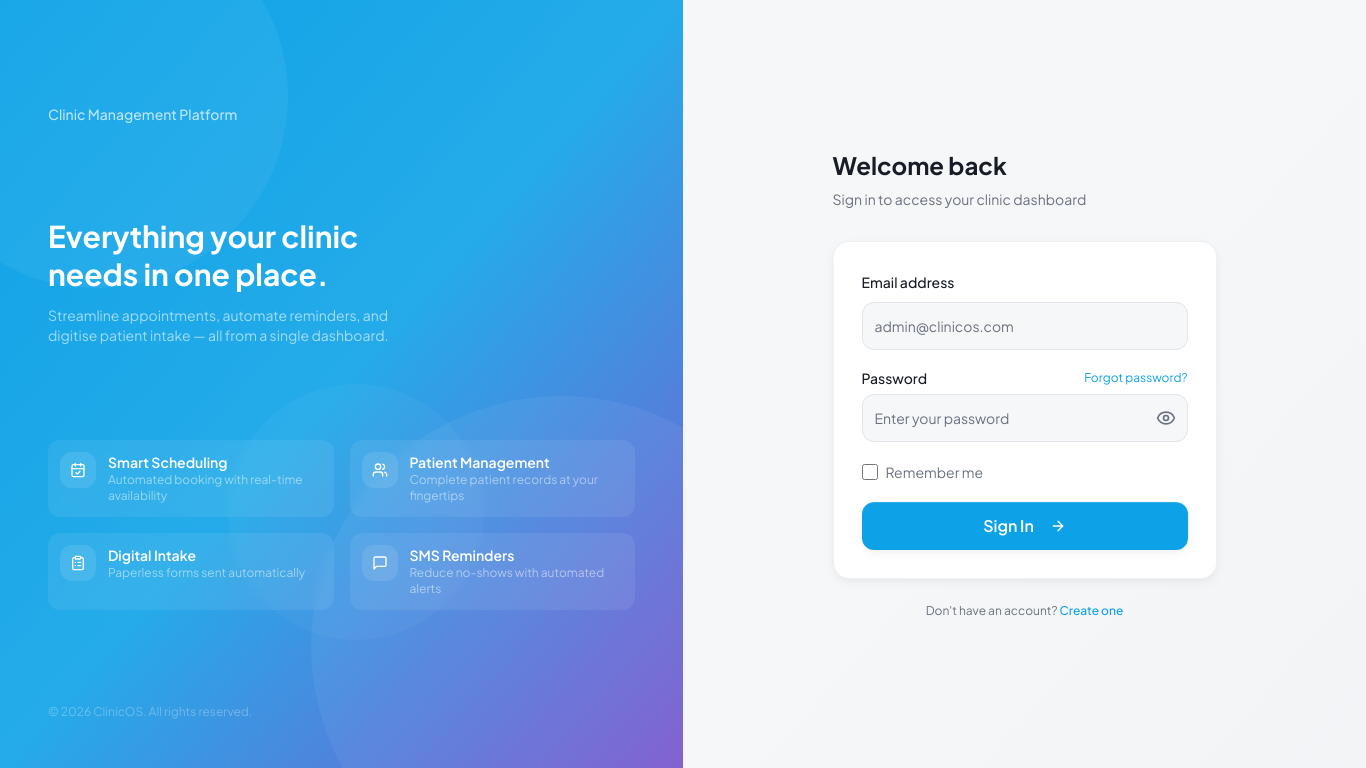
Test: Login › flags invalid email format
Type "not-an-email" into the field labelled "Email address" at x=1024, y=326, box [862,302,1188,350]
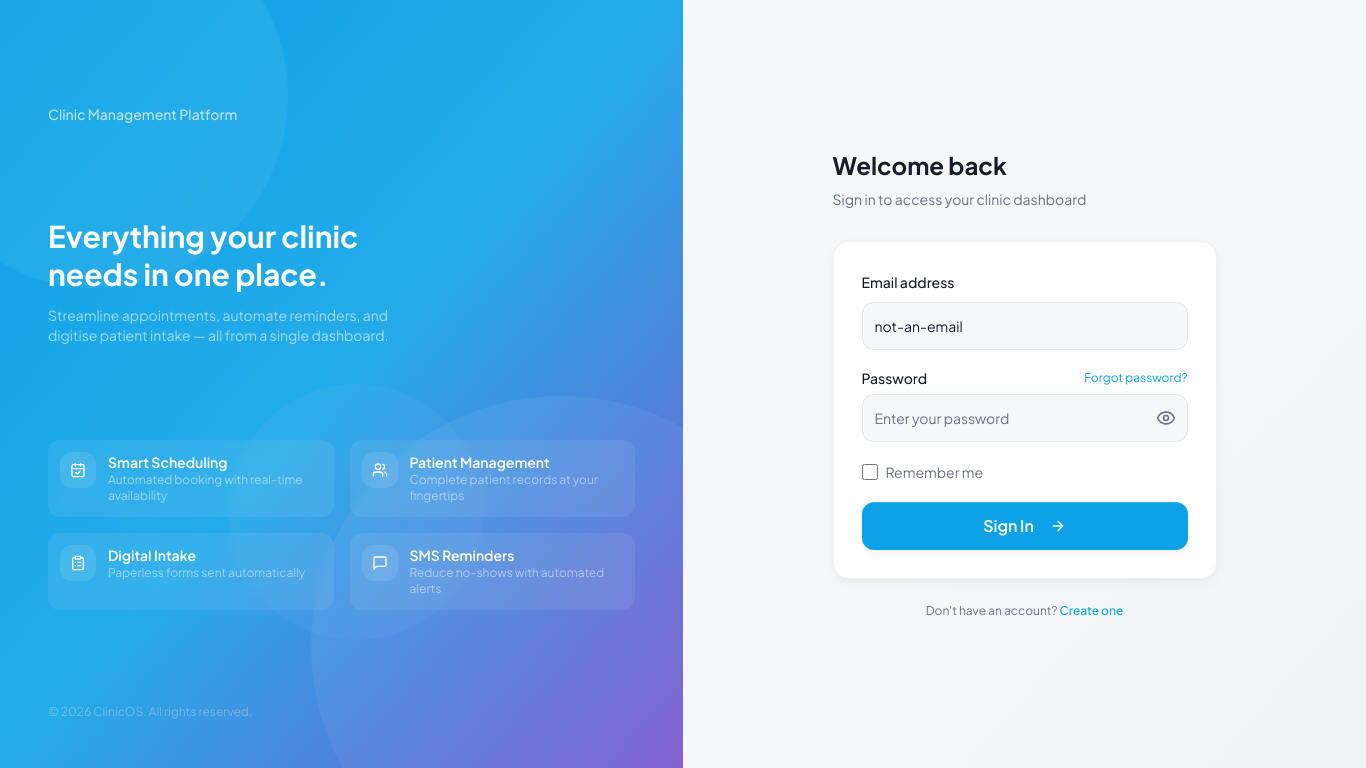
Type "somepass" into the password field labelled "Password" at x=1024, y=418, box [862,394,1188,442]
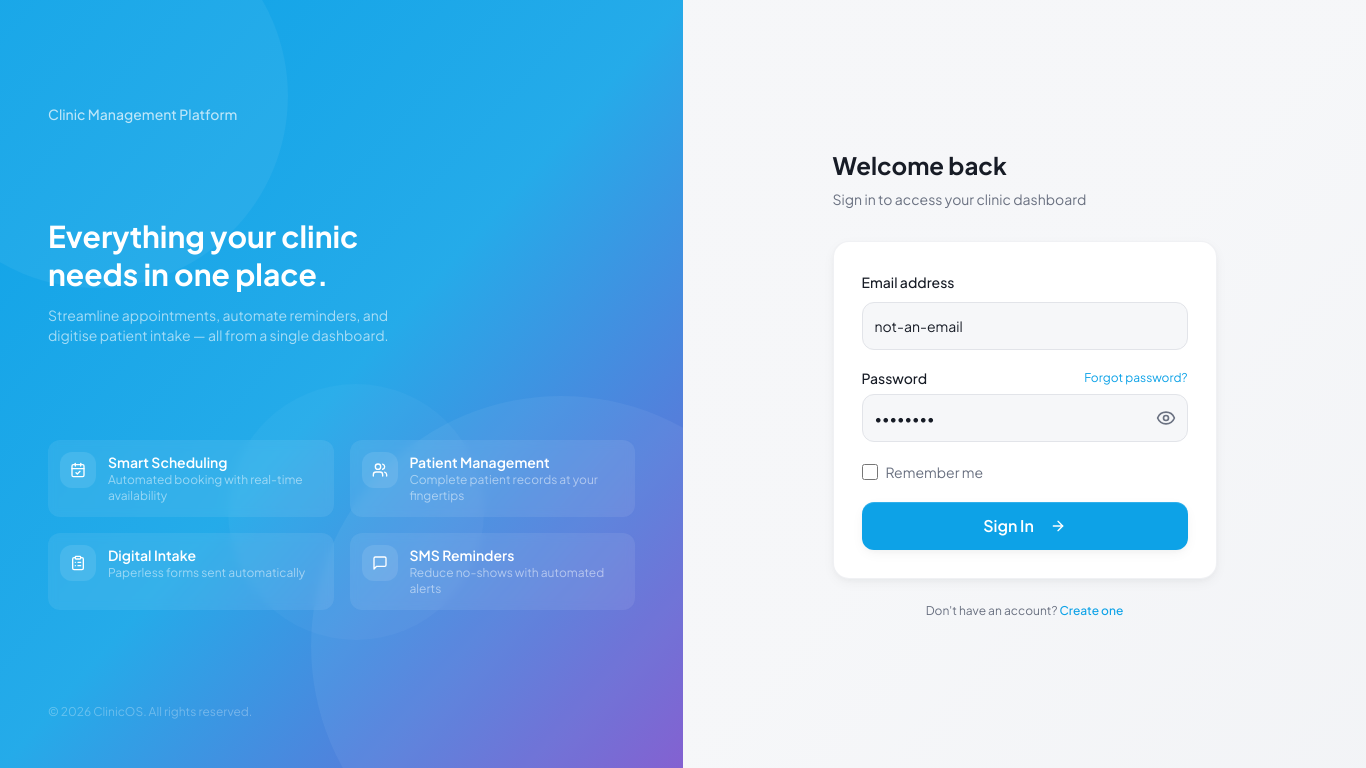
Click the button "Sign In" at x=1024, y=526, box [862,502,1188,550]
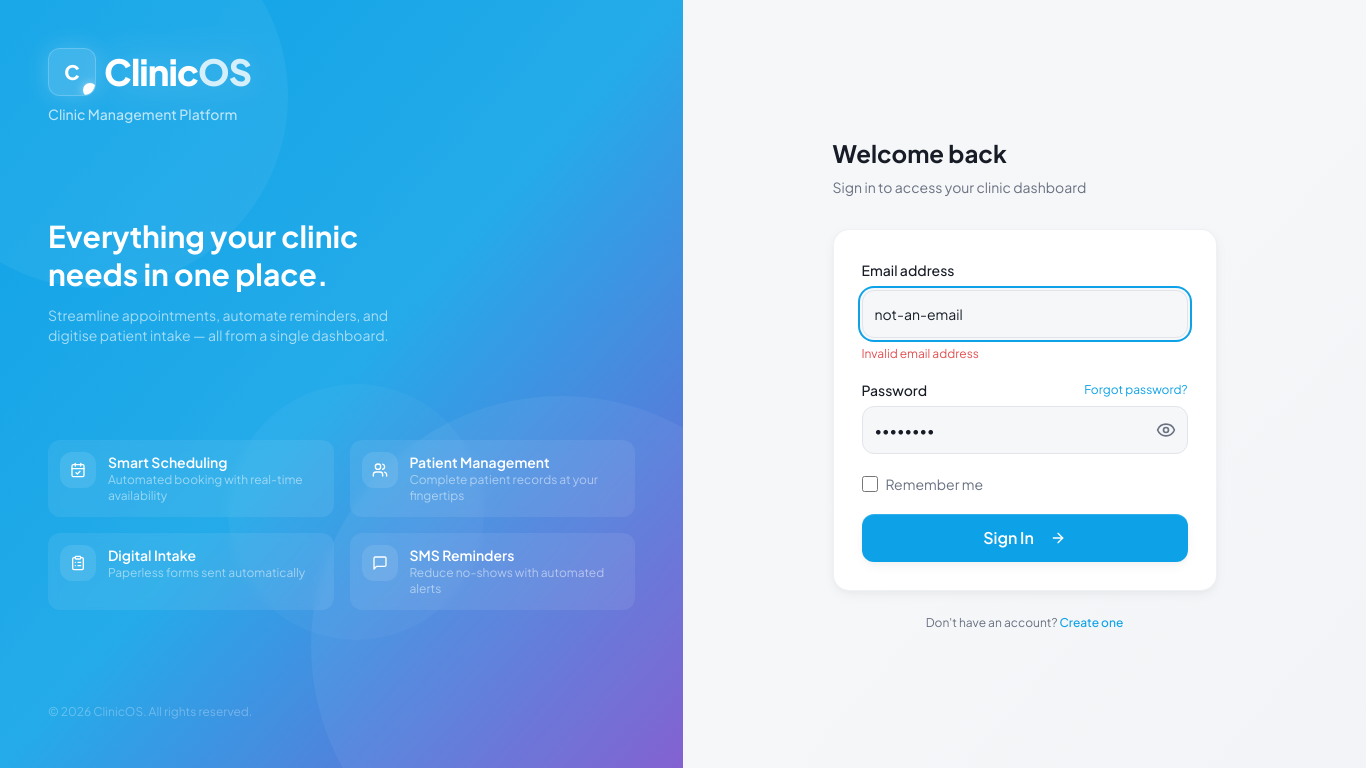
Check: the text "Invalid email address" is shown, box [862,346,979,361]
